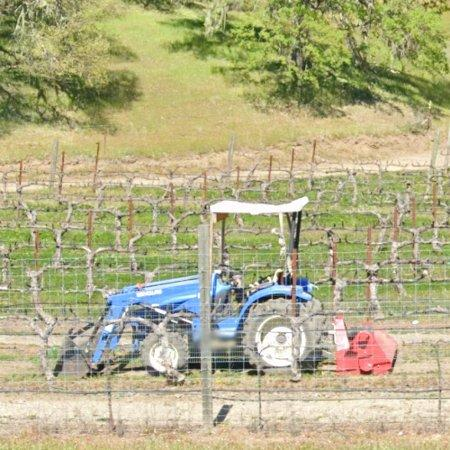tractors: (211, 197, 331, 379), (56, 276, 204, 378), (334, 317, 398, 375)
